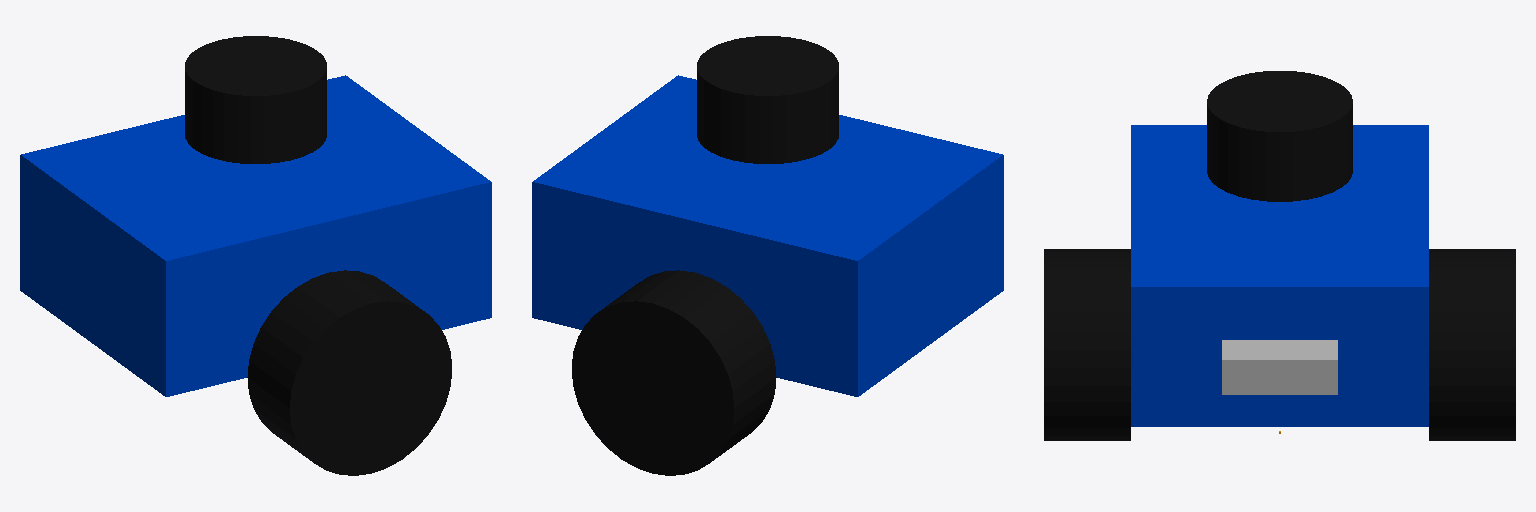
robot.urdf — swarmy_robot:
<?xml version="1.0"?>
<!--
  ============================================================================
  Project Handlers: Naman Sain & Souvik Mallik
  
  Maintainers:
  - Naman Sain   : ROS FULL STACK and Development with Software to Hardware Communication
  - Souvik Mallik: Embedded Maintainer
  ============================================================================
-->

<robot name="swarmy_robot">

  <material name="black"><color rgba="0.1 0.1 0.1 1.0"/></material>
  <material name="dark_gray"><color rgba="0.25 0.25 0.25 1.0"/></material>
  <material name="blue"><color rgba="0.0 0.3 0.8 1.0"/></material>
  <material name="silver"><color rgba="0.75 0.75 0.75 1.0"/></material>

  <link name="base_footprint">
    <visual><geometry><box size="0.001 0.001 0.001"/></geometry></visual>
  </link>

  <joint name="base_joint" type="fixed">
    <parent link="base_footprint"/>
    <child  link="base_link"/>
    <origin xyz="0 0 0.09" rpy="0 0 0"/>
  </joint>

  <link name="base_link">
    <visual>
      <origin xyz="0 0 0" rpy="0 0 0"/>
      <geometry><box size="0.200 0.155 0.080"/></geometry>
      <material name="blue"/>
    </visual>
    <collision>
      <origin xyz="0 0 0" rpy="0 0 0"/>
      <geometry><box size="0.200 0.155 0.080"/></geometry>
    </collision>
    <inertial>
      <origin xyz="0 0 0" rpy="0 0 0"/>
      <mass value="0.8"/>
      <inertia ixx="0.001477" ixy="0.0" ixz="0.0"
               iyy="0.002363" iyz="0.0" izz="0.003303"/>
    </inertial>
  </link>

  <link name="right_wheel_link">
    <visual>
      <origin xyz="0 0 0" rpy="1.5708 0 0"/>
      <geometry><cylinder radius="0.05" length="0.045"/></geometry>
      <material name="black"/>
    </visual>
    <collision>
      <origin xyz="0 0 0" rpy="1.5708 0 0"/>
      <geometry><cylinder radius="0.05" length="0.045"/></geometry>
    </collision>
    <inertial>
      <origin xyz="0 0 0" rpy="0 0 0"/>
      <mass value="0.15"/>
      <inertia ixx="0.000228" ixy="0.0" ixz="0.0"
               iyy="0.000228" iyz="0.0" izz="0.000188"/>
    </inertial>
  </link>
  <joint name="right_wheel_joint" type="continuous">
    <parent link="base_link"/>
    <child  link="right_wheel_link"/>
    <origin xyz="0.0 -0.100 -0.040" rpy="0 0 0"/>
    <axis xyz="0 1 0"/>
    <dynamics damping="0.01" friction="0.1"/>
  </joint>

  <link name="left_wheel_link">
    <visual>
      <origin xyz="0 0 0" rpy="1.5708 0 0"/>
      <geometry><cylinder radius="0.05" length="0.045"/></geometry>
      <material name="black"/>
    </visual>
    <collision>
      <origin xyz="0 0 0" rpy="1.5708 0 0"/>
      <geometry><cylinder radius="0.05" length="0.045"/></geometry>
    </collision>
    <inertial>
      <origin xyz="0 0 0" rpy="0 0 0"/>
      <mass value="0.15"/>
      <inertia ixx="0.000228" ixy="0.0" ixz="0.0"
               iyy="0.000228" iyz="0.0" izz="0.000188"/>
    </inertial>
  </link>
  <joint name="left_wheel_joint" type="continuous">
    <parent link="base_link"/>
    <child  link="left_wheel_link"/>
    <origin xyz="0.0 0.100 -0.040" rpy="0 0 0"/>
    <axis xyz="0 1 0"/>
    <dynamics damping="0.01" friction="0.1"/>
  </joint>

  <link name="caster_fr_link">
    <visual><origin xyz="0 0 0" rpy="0 0 0"/>
      <geometry><sphere radius="0.015"/></geometry>
      <material name="dark_gray"/>
    </visual>
    <collision><origin xyz="0 0 0" rpy="0 0 0"/>
      <geometry><sphere radius="0.015"/></geometry>
    </collision>
    <inertial><origin xyz="0 0 0" rpy="0 0 0"/>
      <mass value="0.05"/>
      <inertia ixx="0.0000045" ixy="0.0" ixz="0.0"
               iyy="0.0000045" iyz="0.0" izz="0.0000045"/>
    </inertial>
  </link>
  <joint name="caster_fr_joint" type="fixed">
    <parent link="base_link"/><child link="caster_fr_link"/>
    <origin xyz="0.075 -0.055 -0.035" rpy="0 0 0"/>
  </joint>

  <link name="caster_fl_link">
    <visual><origin xyz="0 0 0" rpy="0 0 0"/>
      <geometry><sphere radius="0.015"/></geometry>
      <material name="dark_gray"/>
    </visual>
    <collision><origin xyz="0 0 0" rpy="0 0 0"/>
      <geometry><sphere radius="0.015"/></geometry>
    </collision>
    <inertial><origin xyz="0 0 0" rpy="0 0 0"/>
      <mass value="0.05"/>
      <inertia ixx="0.0000045" ixy="0.0" ixz="0.0"
               iyy="0.0000045" iyz="0.0" izz="0.0000045"/>
    </inertial>
  </link>
  <joint name="caster_fl_joint" type="fixed">
    <parent link="base_link"/><child link="caster_fl_link"/>
    <origin xyz="0.075 0.055 -0.035" rpy="0 0 0"/>
  </joint>

  <link name="caster_rr_link">
    <visual><origin xyz="0 0 0" rpy="0 0 0"/>
      <geometry><sphere radius="0.015"/></geometry>
      <material name="dark_gray"/>
    </visual>
    <collision><origin xyz="0 0 0" rpy="0 0 0"/>
      <geometry><sphere radius="0.015"/></geometry>
    </collision>
    <inertial><origin xyz="0 0 0" rpy="0 0 0"/>
      <mass value="0.05"/>
      <inertia ixx="0.0000045" ixy="0.0" ixz="0.0"
               iyy="0.0000045" iyz="0.0" izz="0.0000045"/>
    </inertial>
  </link>
  <joint name="caster_rr_joint" type="fixed">
    <parent link="base_link"/><child link="caster_rr_link"/>
    <origin xyz="-0.075 -0.055 -0.035" rpy="0 0 0"/>
  </joint>

  <link name="caster_rl_link">
    <visual><origin xyz="0 0 0" rpy="0 0 0"/>
      <geometry><sphere radius="0.015"/></geometry>
      <material name="dark_gray"/>
    </visual>
    <collision><origin xyz="0 0 0" rpy="0 0 0">
      </origin><geometry><sphere radius="0.015"/></geometry>
    </collision>
    <inertial><origin xyz="0 0 0" rpy="0 0 0"/>
      <mass value="0.05"/>
      <inertia ixx="0.0000045" ixy="0.0" ixz="0.0"
               iyy="0.0000045" iyz="0.0" izz="0.0000045"/>
    </inertial>
  </link>
  <joint name="caster_rl_joint" type="fixed">
    <parent link="base_link"/><child link="caster_rl_link"/>
    <origin xyz="-0.075 0.055 -0.035" rpy="0 0 0"/>
  </joint>

  <link name="lidar_link">
    <visual><origin xyz="0 0 0" rpy="0 0 0"/>
      <geometry><cylinder radius="0.038" length="0.040"/></geometry>
      <material name="black"/>
    </visual>
    <collision><origin xyz="0 0 0" rpy="0 0 0"/>
      <geometry><cylinder radius="0.038" length="0.040"/></geometry>
    </collision>
    <inertial><origin xyz="0 0 0" rpy="0 0 0"/>
      <mass value="0.10"/>
      <inertia ixx="0.0000358" ixy="0.0" ixz="0.0"
               iyy="0.0000358" iyz="0.0" izz="0.0000722"/>
    </inertial>
  </link>
  <joint name="lidar_joint" type="fixed">
    <parent link="base_link"/><child link="lidar_link"/>
    <origin xyz="0.0 0.0 0.080" rpy="0 0 0"/>
  </joint>

  <link name="camera_link">
    <visual><origin xyz="0 0 0" rpy="0 0 0"/>
      <geometry><box size="0.025 0.060 0.020"/></geometry>
      <material name="silver"/>
    </visual>
    <collision><origin xyz="0 0 0" rpy="0 0 0"/>
      <geometry><box size="0.025 0.060 0.020"/></geometry>
    </collision>
    <inertial><origin xyz="0 0 0" rpy="0 0 0"/>
      <mass value="0.03"/>
      <inertia ixx="0.0000018" ixy="0.0" ixz="0.0"
               iyy="0.0000007" iyz="0.0" izz="0.0000024"/>
    </inertial>
  </link>
  <joint name="camera_joint" type="fixed">
    <parent link="base_link"/><child link="camera_link"/>
    <origin xyz="0.1125 0.0 0.0" rpy="0 0 0"/>
  </joint>

  <link name="camera_optical_frame"/>
  <joint name="camera_optical_joint" type="fixed">
    <parent link="camera_link"/><child link="camera_optical_frame"/>
    <origin xyz="0 0 0" rpy="-1.5708 0 -1.5708"/>
  </joint>

</robot>

--- Facts derived from the render (not from the file) ---
3 views of the same robot in one strip: view 1: azimuth 30°, elevation 25°; view 2: azimuth 150°, elevation 25°; view 3: azimuth 270°, elevation 25° (orthographic).
Robot: swarmy_robot — 11 links, 10 joints (2 continuous, 8 fixed); root link base_footprint; default pose: every joint at zero.
Links seen in each view (by area): view 1: base_link, right_wheel_link, lidar_link; view 2: base_link, left_wheel_link, lidar_link; view 3: base_link, lidar_link, right_wheel_link, left_wheel_link, camera_link.
Link boxes in pixels (x1,y1,x2,y2): base_link: (20, 75, 491, 396); right_wheel_link: (247, 270, 451, 475); lidar_link: (185, 36, 326, 163); base_link: (532, 75, 1003, 396); left_wheel_link: (572, 270, 776, 475); lidar_link: (697, 36, 838, 163); base_link: (1131, 125, 1428, 426); lidar_link: (1207, 71, 1352, 201); right_wheel_link: (1044, 249, 1130, 440); left_wheel_link: (1429, 249, 1515, 440); camera_link: (1222, 340, 1337, 394).
Bounding box of the posed robot: 0.225 × 0.245 × 0.1905 m (x, y, z).
Geometry: primitives only (box / cylinder / sphere), no mesh files.
